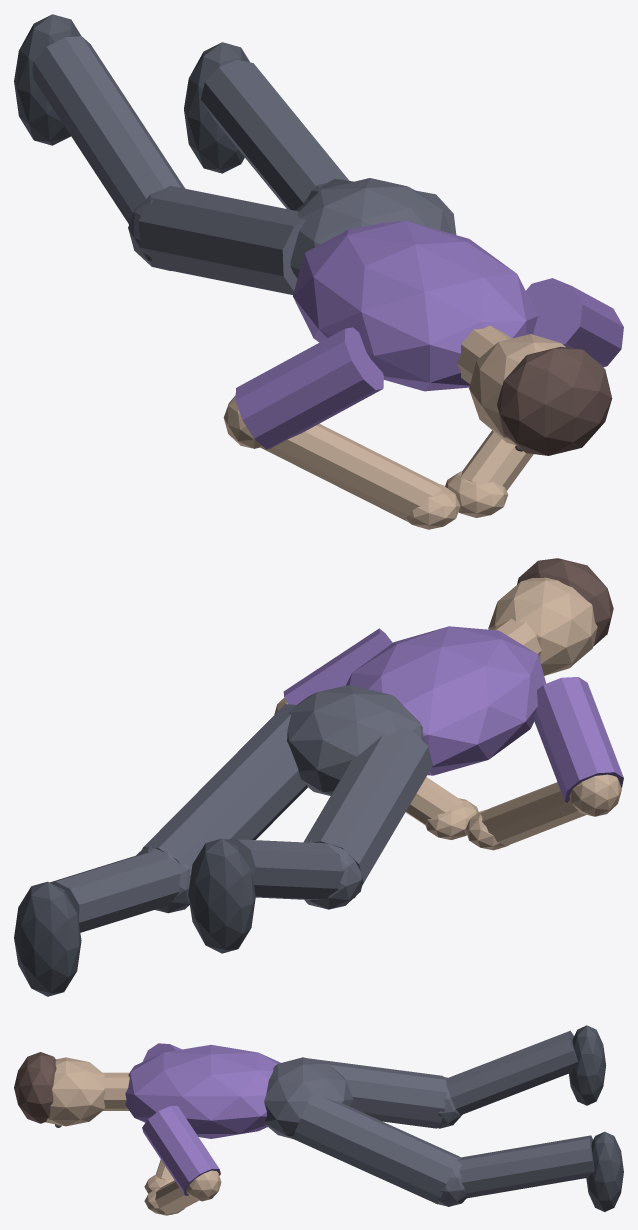
3 views of the same model, one above another, from view 1: azimuth 30°, elevation 25°; view 2: azimuth 150°, elevation 25°; view 3: azimuth 270°, elevation 25° (orthographic). The views are drawn at different scales.
Visible parts, largest first — view 1: world; view 2: world; view 3: world.
Boxes of the visible parts, x1,y1,x2,y2 form: world: [14, 14, 623, 529]; world: [14, 558, 623, 996]; world: [14, 1025, 623, 1215].
Size of the model in its own units: 0.93 by 0.6103 by 2.06.
